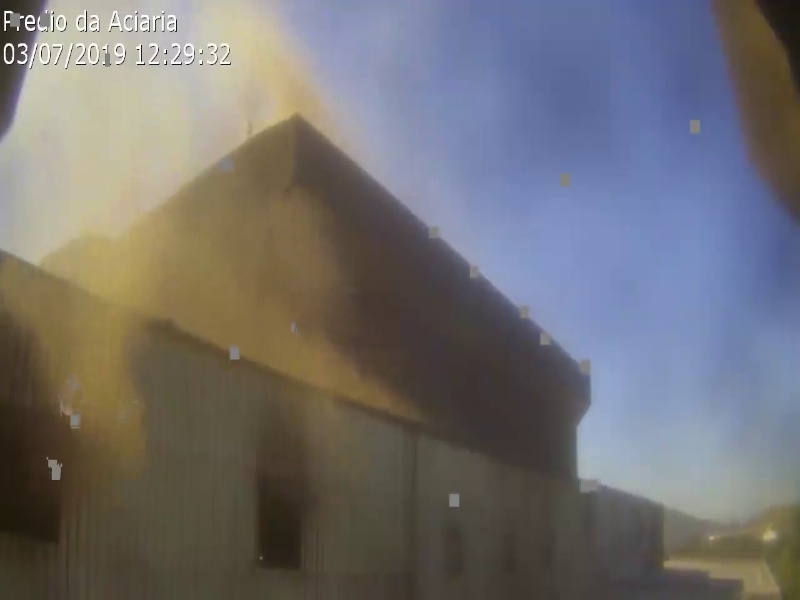Pessimo: (94, 234, 186, 298), (199, 267, 280, 329), (186, 221, 267, 283), (261, 308, 342, 370), (214, 170, 295, 232), (82, 329, 123, 432), (55, 163, 96, 266), (100, 104, 141, 207), (149, 76, 190, 179), (270, 54, 311, 157), (218, 41, 259, 144), (190, 126, 231, 229)
